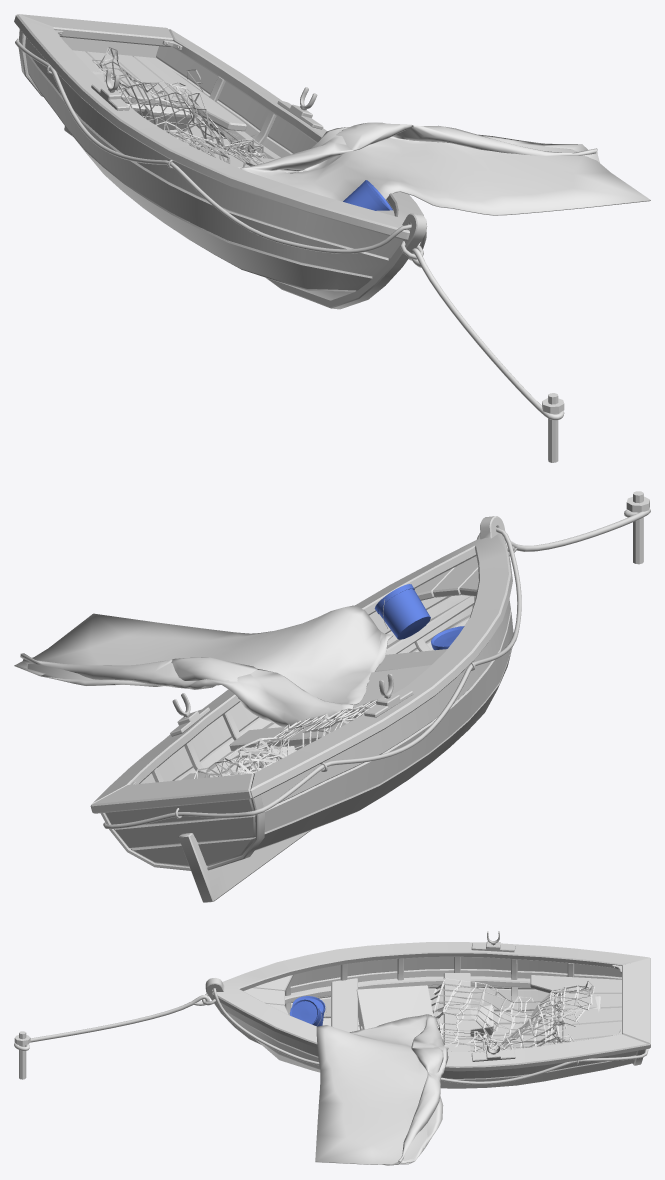
The model's file is boat_all.fbx.
3 views of the same model, one above another, from view 1: azimuth 30°, elevation 25°; view 2: azimuth 150°, elevation 25°; view 3: azimuth 270°, elevation 25° (orthographic). The views are drawn at different scales.
Visible parts, largest first — view 1: Bench, 平面.002, 柱体, 贝塞尔曲线, 柱体.002, Retopo_Bucket_B_Bucket_LP.001, Cube.001; view 2: Bench, 平面.002, 柱体, Retopo_Bucket_B_Bucket_LP.001, Cube, 贝塞尔曲线, 柱体.002; view 3: Bench, 平面.002, 柱体, Cube, 贝塞尔曲线, Retopo_Bucket_B_Bucket_LP.001, Cube.003, 柱体.002.
Boxes of the visible parts, x1=… form: Bench: x1=14, y1=14, x2=427, y2=309; 平面.002: x1=240, y1=122, x2=650, y2=215; 柱体: x1=92, y1=46, x2=267, y2=167; 贝塞尔曲线: x1=410, y1=248, x2=564, y2=420; 柱体.002: x1=542, y1=393, x2=564, y2=462; Retopo_Bucket_B_Bucket_LP.001: x1=343, y1=180, x2=392, y2=210; Cube.001: x1=139, y1=104, x2=198, y2=130; Bench: x1=90, y1=516, x2=521, y2=902; 平面.002: x1=14, y1=605, x2=393, y2=726; 柱体: x1=194, y1=699, x2=377, y2=778; Retopo_Bucket_B_Bucket_LP.001: x1=374, y1=584, x2=430, y2=639; Cube: x1=294, y1=665, x2=430, y2=750; 贝塞尔曲线: x1=505, y1=508, x2=650, y2=556; 柱体.002: x1=626, y1=491, x2=649, y2=564; Bench: x1=202, y1=931, x2=650, y2=1088; 平面.002: x1=315, y1=1014, x2=448, y2=1165; 柱体: x1=430, y1=978, x2=594, y2=1051; Cube: x1=356, y1=985, x2=433, y2=1029; 贝塞尔曲线: x1=14, y1=995, x2=209, y2=1050; Retopo_Bucket_B_Bucket_LP.001: x1=289, y1=999, x2=322, y2=1026; Cube.003: x1=470, y1=1005, x2=493, y2=1036; 柱体.002: x1=14, y1=1031, x2=30, y2=1079.
Size of the model in its own units: 514 by 182 by 930.
